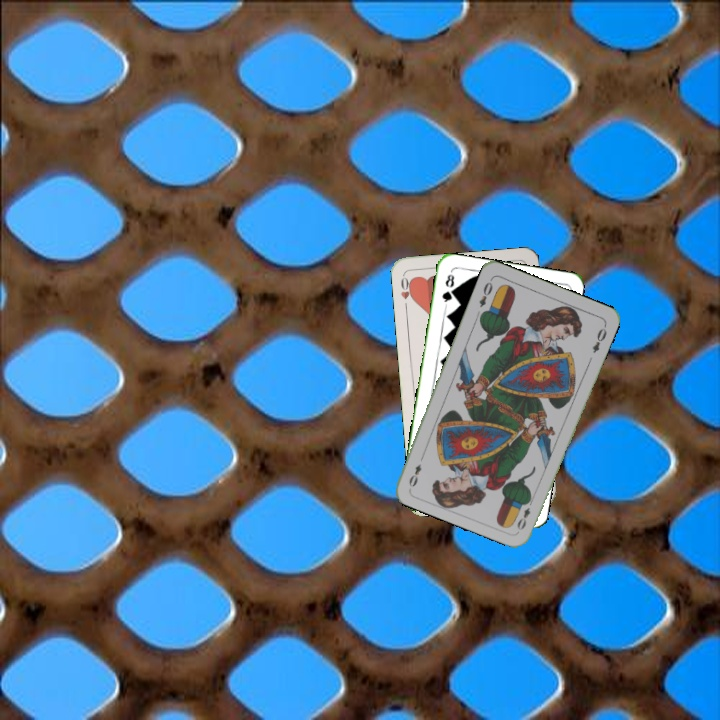EO: (513, 494, 536, 533), (475, 275, 495, 310)
G8: (438, 270, 457, 309)
HO: (396, 272, 416, 312)
